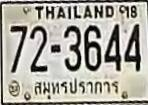2: (30, 25, 46, 71)
3: (63, 25, 81, 71)
4: (124, 23, 140, 71), (104, 23, 120, 70)
6: (83, 24, 100, 70)
7: (10, 25, 27, 71)
SPK: (30, 77, 120, 101)
